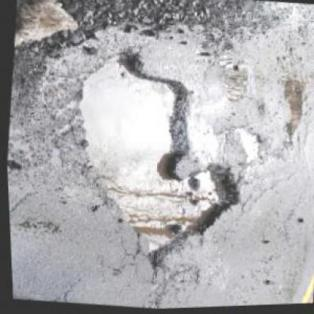Hueco: (58, 44, 258, 279), (275, 82, 310, 143), (227, 127, 265, 166)
